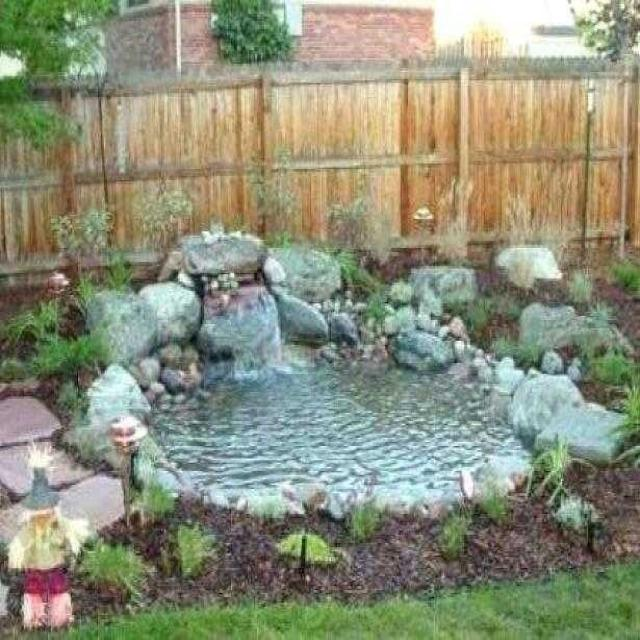Ponds: (63, 241, 607, 524)
